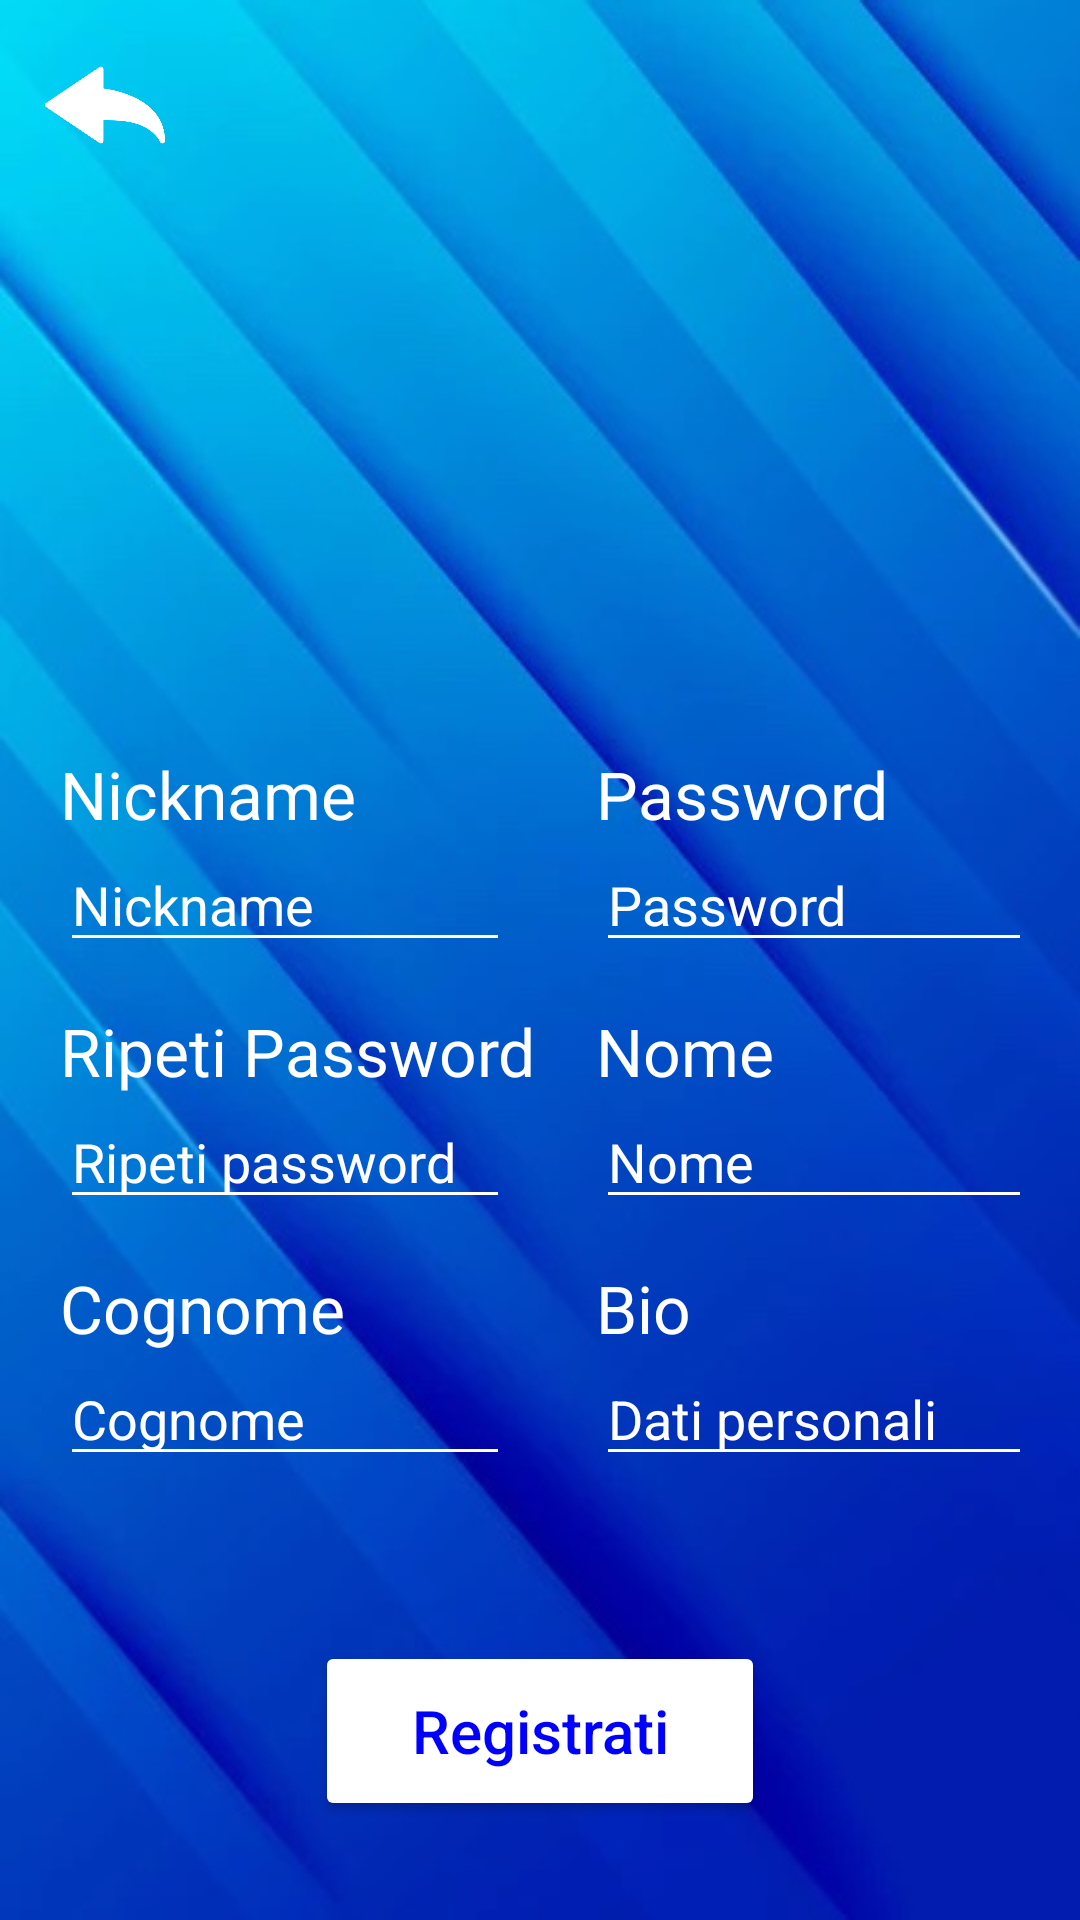

Icon bounding boxes for this 1080x1920 phone screenshot, format BBox(x1, y1, x2, y2):
back: BBox(45, 66, 165, 144)
